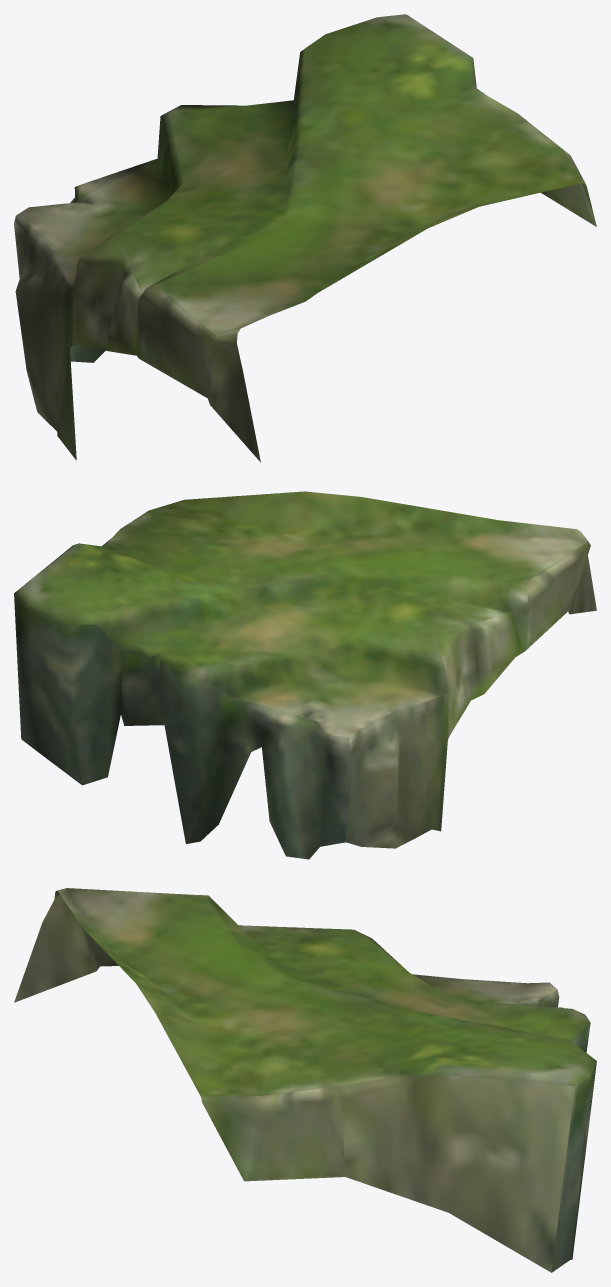
File: S_Rock_Green053_1060_1.fbx
The picture shows the model from 3 angles, top to bottom: view 1: azimuth 30°, elevation 25°; view 2: azimuth 150°, elevation 25°; view 3: azimuth 270°, elevation 25°; orthographic projection. The views are drawn at different scales.
Visible parts, largest first — view 1: S_Rock_Green053_1060_1; view 2: S_Rock_Green053_1060_1; view 3: S_Rock_Green053_1060_1.
Boxes of the visible parts, x1,y1,x2,y2 form: S_Rock_Green053_1060_1: (14,14,596,462); S_Rock_Green053_1060_1: (14,491,596,859); S_Rock_Green053_1060_1: (14,888,596,1272).
Bounding box in the file's own units: 1050 × 594 × 1154.
Materials: 1 (1 with a texture image).
